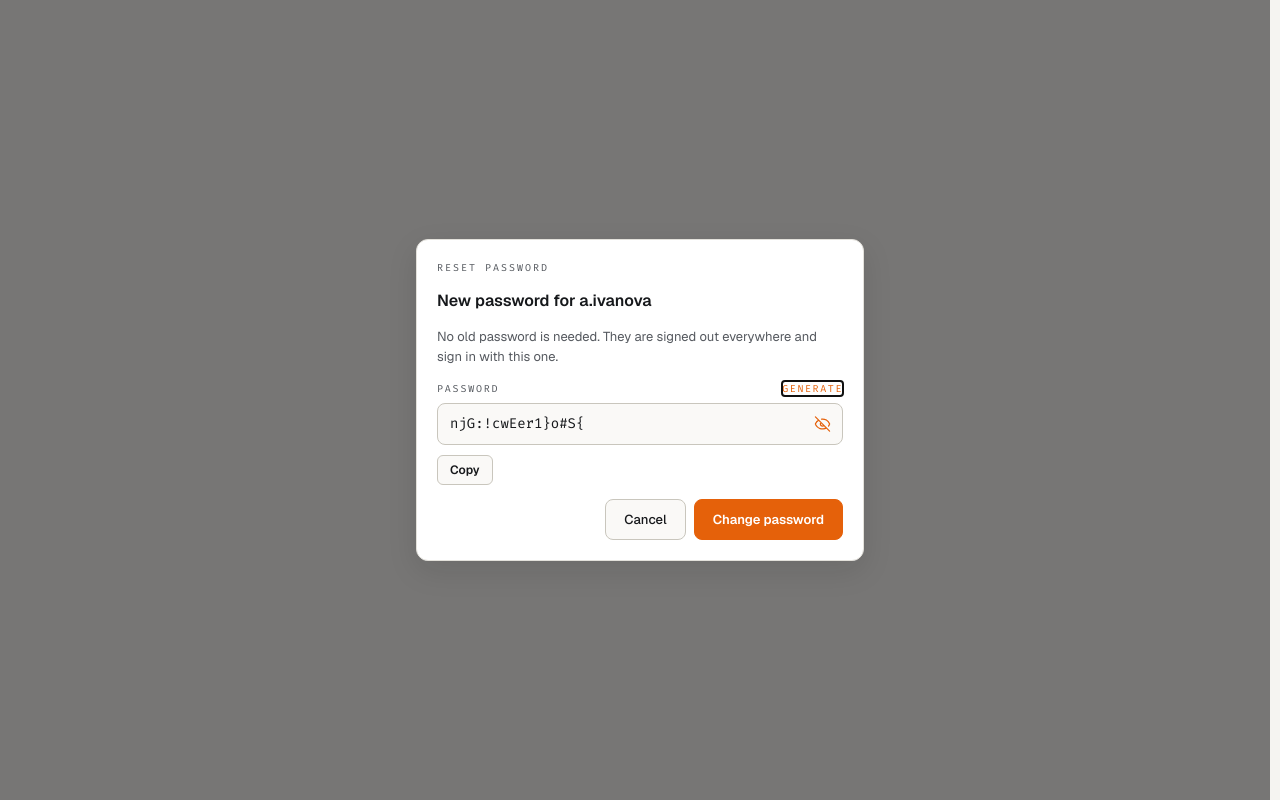
Test: ResetPasswordDialog › replaces the password with a fresh one on Generate and copies it
Click the button "Generate". click: (813, 388)
box: [782,381,843,396]
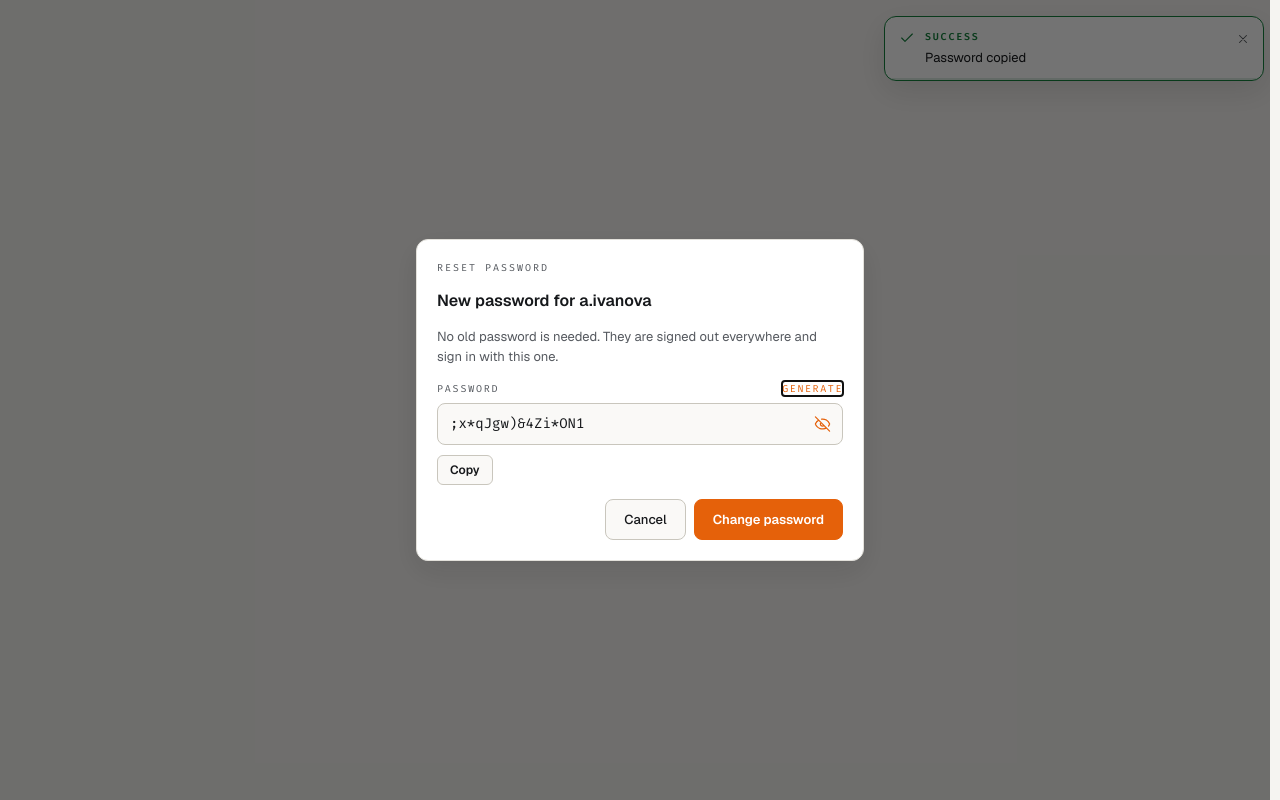
Check: the text "Password copied" is shown, box [925,49,1026,66]
